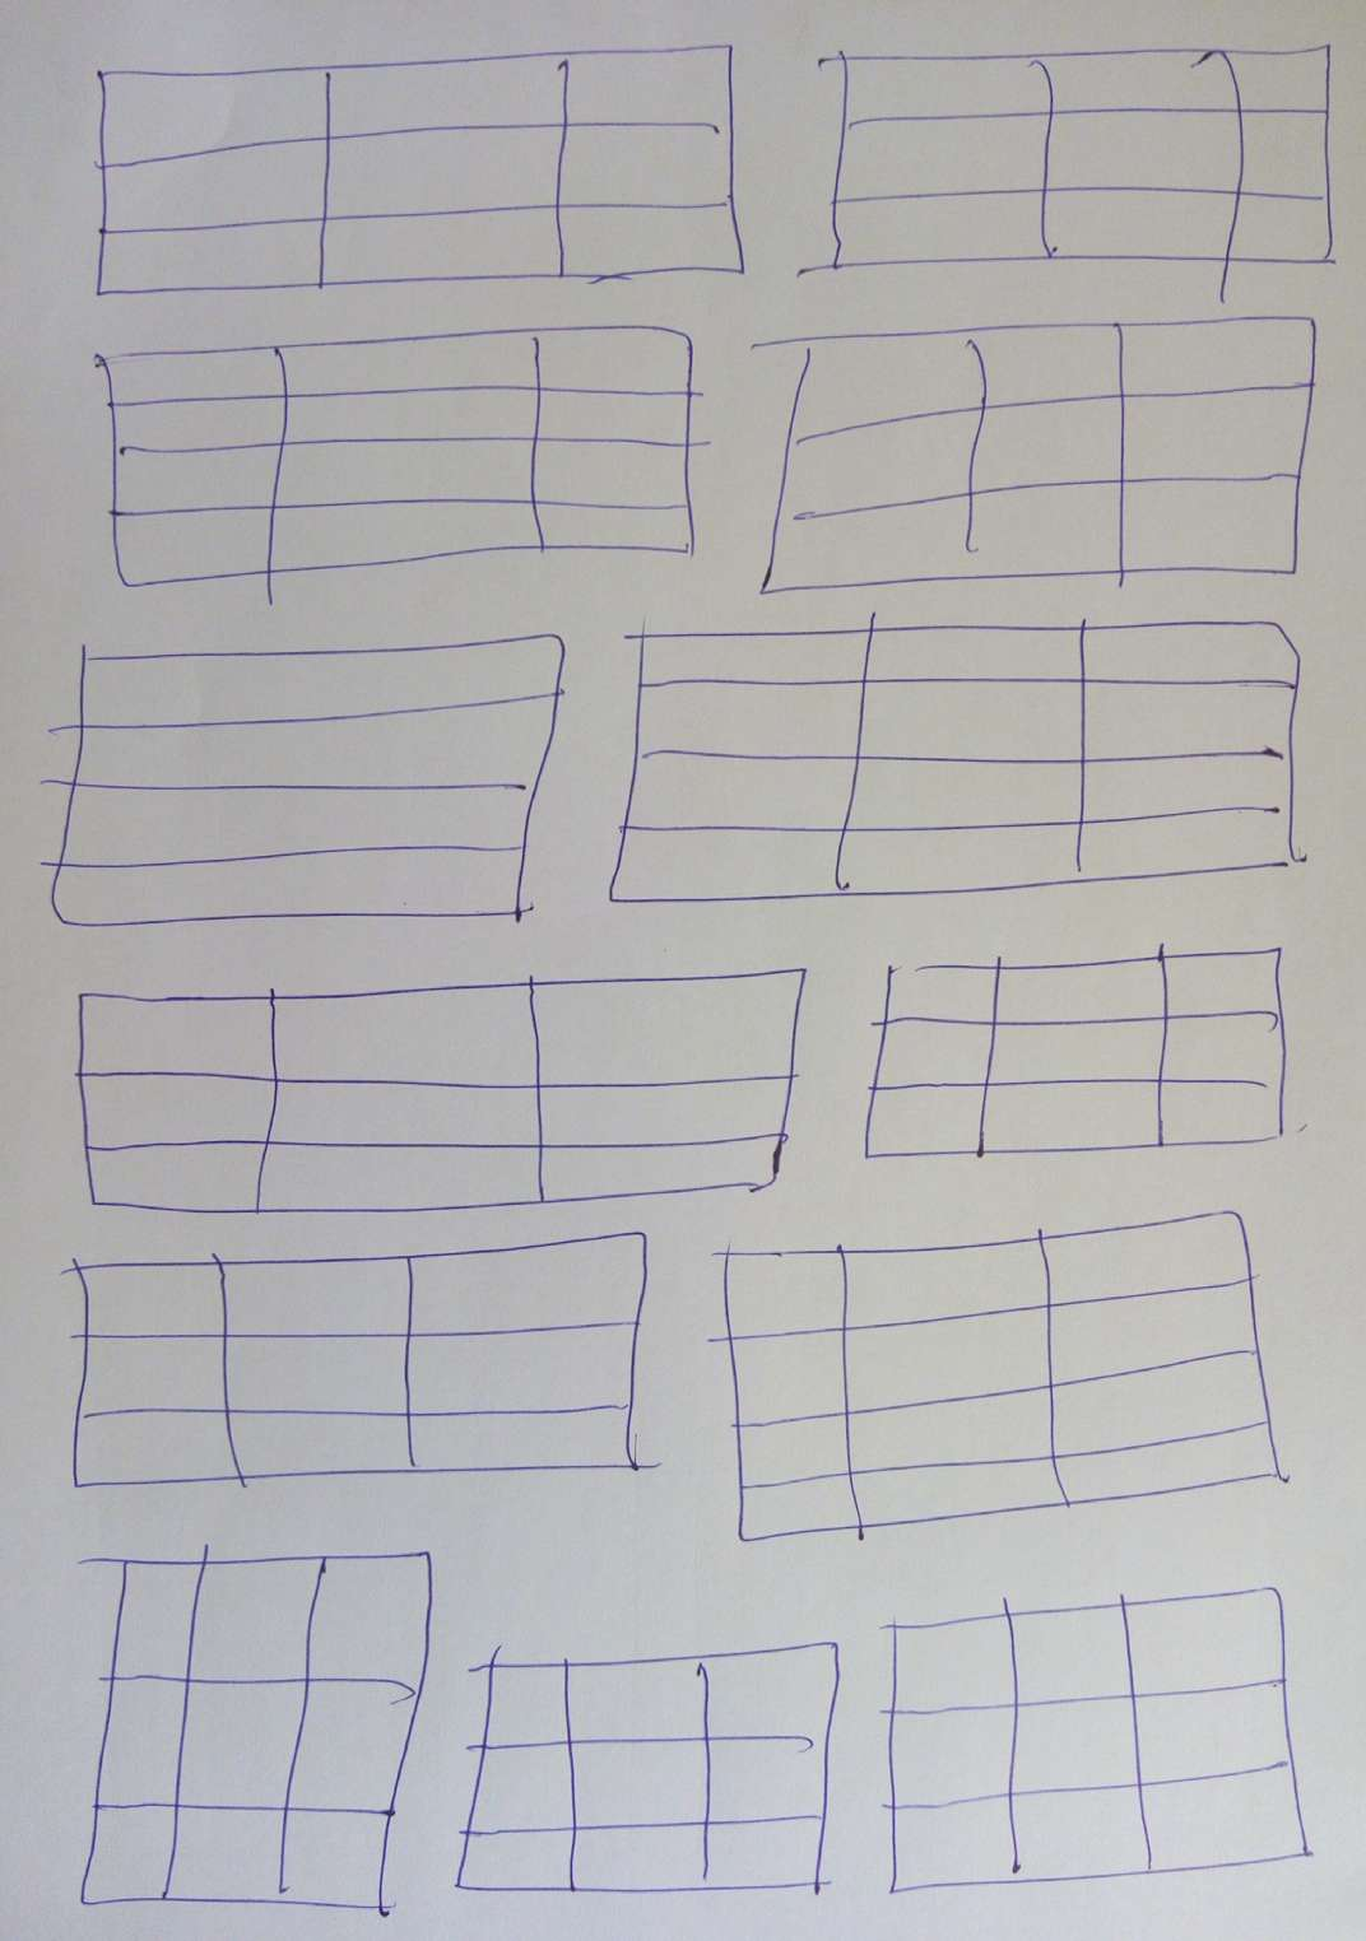Table: (609, 611, 1307, 903), (707, 1211, 1291, 1542), (74, 968, 807, 1214), (95, 325, 713, 605), (93, 44, 745, 296), (733, 316, 1316, 594), (58, 1231, 662, 1489), (40, 634, 571, 927), (795, 44, 1336, 305), (877, 1588, 1314, 1894), (77, 1543, 432, 1917), (454, 1642, 840, 1897), (865, 943, 1286, 1160)
